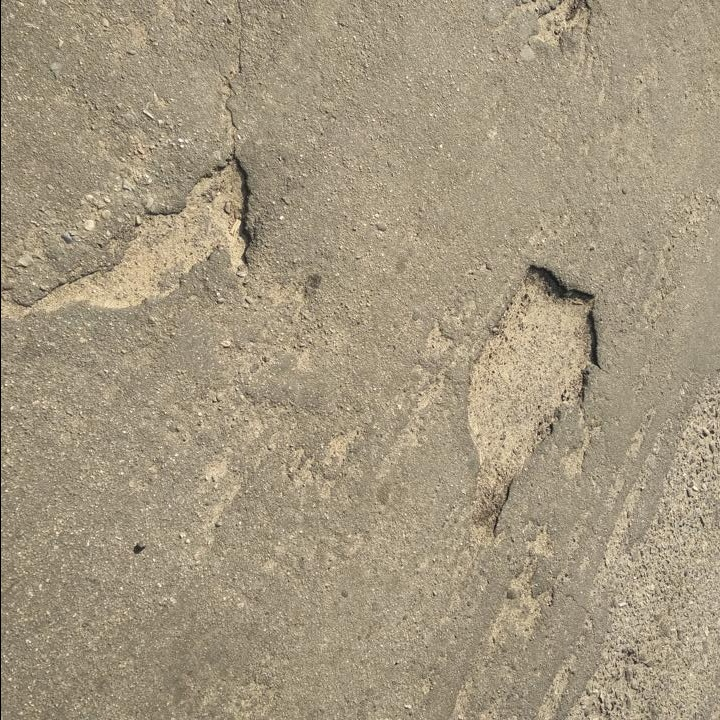pothole: (1, 153, 257, 326), (457, 255, 606, 544), (513, 0, 594, 58)
